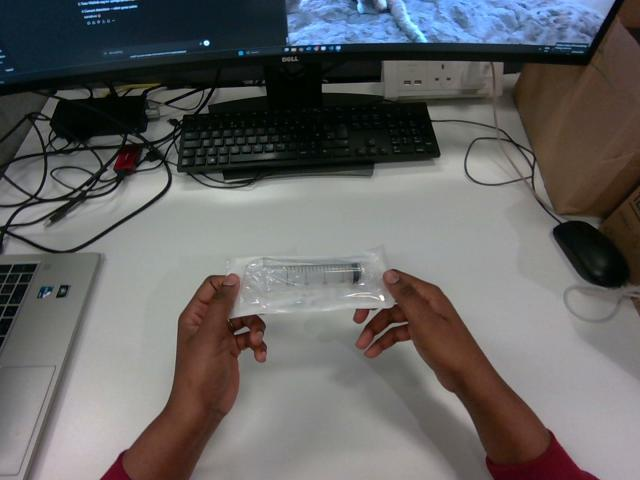syringe: (227, 247, 393, 316)
